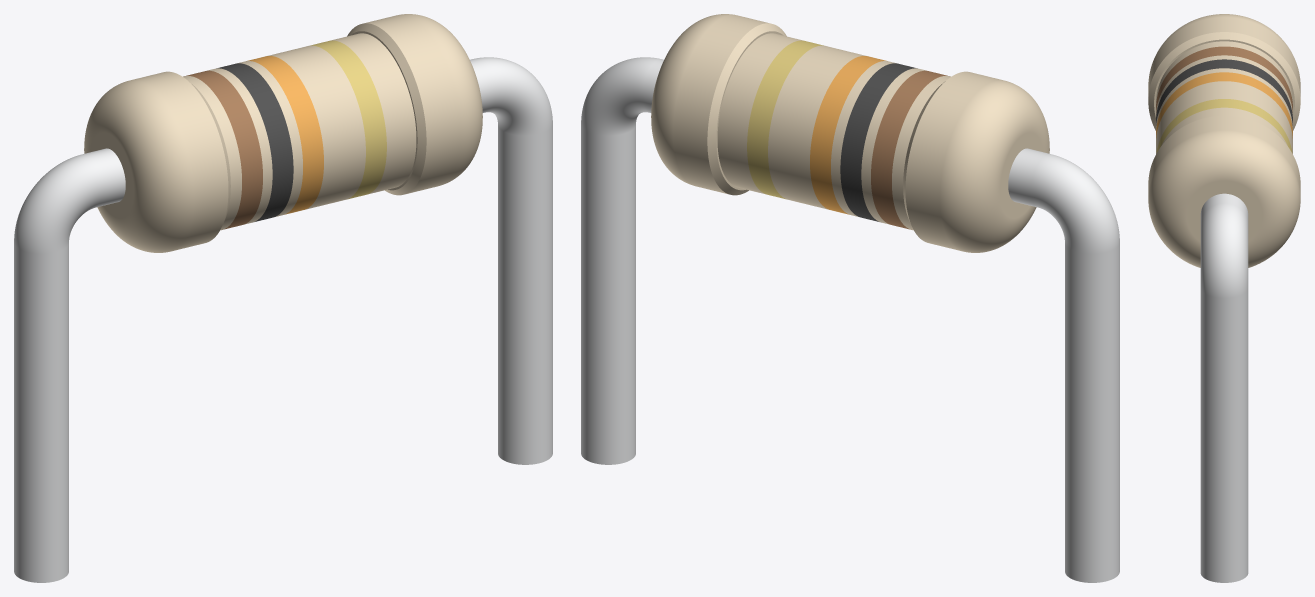
The model's file is carbon_film_resistor_0204_true_scale.glb.
The picture shows the model from 3 angles, left to right: view 1: azimuth 30°, elevation 25°; view 2: azimuth 150°, elevation 25°; view 3: azimuth 270°, elevation 25°; orthographic projection. The views are drawn at different scales.
Parts seen in each view (by area): view 1: lacquer, lead_plating_L, lead_plating_R, band_2, band_4, band_1, band_3; view 2: lacquer, lead_plating_L, lead_plating_R, band_2, band_4, band_1, band_3; view 3: lacquer, lead_plating_R, band_2, band_3, band_1, band_4.
Boxes of the visible parts, left/top/right/bottom form: lacquer: left=84, top=14, right=482, bottom=252; lead_plating_L: left=14, top=148, right=125, bottom=582; lead_plating_R: left=470, top=57, right=552, bottom=464; band_2: left=216, top=63, right=293, bottom=221; band_4: left=310, top=40, right=386, bottom=199; band_1: left=186, top=70, right=262, bottom=229; band_3: left=247, top=56, right=323, bottom=214; lacquer: left=651, top=14, right=1049, bottom=252; lead_plating_L: left=1008, top=148, right=1119, bottom=582; lead_plating_R: left=581, top=57, right=663, bottom=464; band_2: left=840, top=63, right=917, bottom=221; band_4: left=747, top=40, right=823, bottom=199; band_1: left=871, top=70, right=947, bottom=229; band_3: left=810, top=56, right=886, bottom=214; lacquer: left=1148, top=14, right=1300, bottom=267; lead_plating_R: left=1200, top=193, right=1248, bottom=582; band_2: left=1156, top=59, right=1292, bottom=125; band_3: left=1156, top=72, right=1292, bottom=138; band_1: left=1156, top=46, right=1292, bottom=112; band_4: left=1156, top=99, right=1292, bottom=152.
Bounding box in the file's own units: 5.58 × 4.6 × 1.6.
